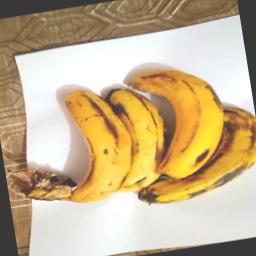Banana Unripe: (131, 58, 235, 188), (50, 78, 139, 206), (101, 75, 178, 199), (124, 142, 256, 213)
